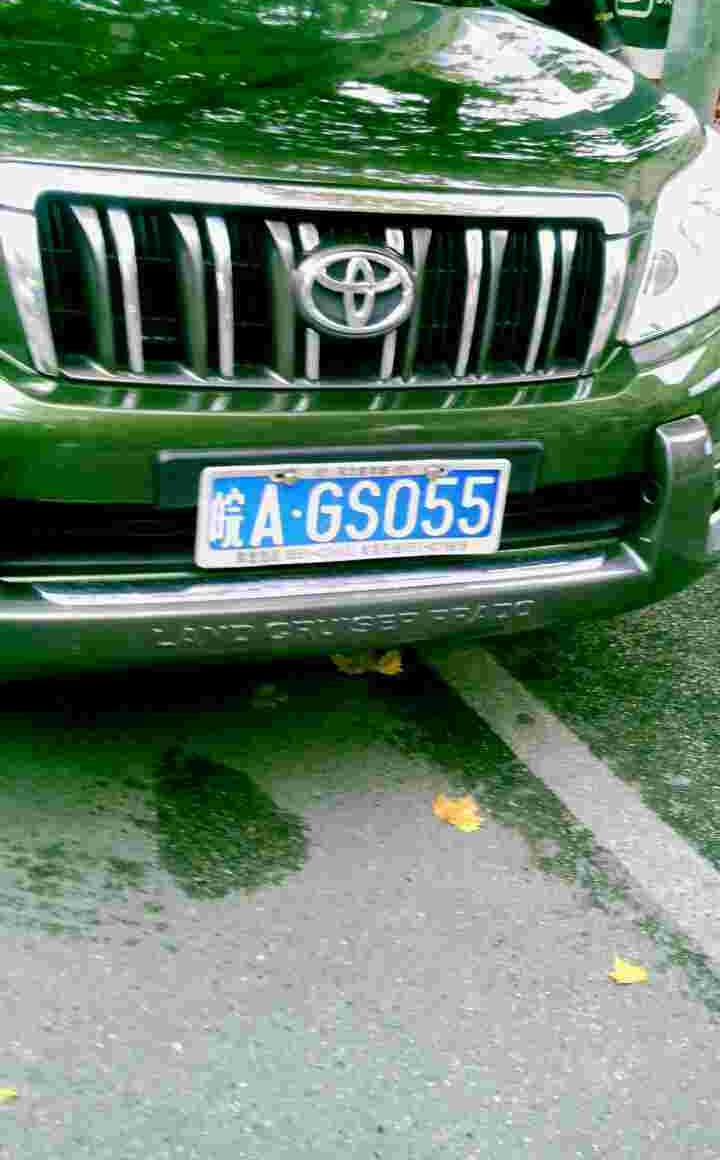license_plate: (206, 461, 500, 556)
